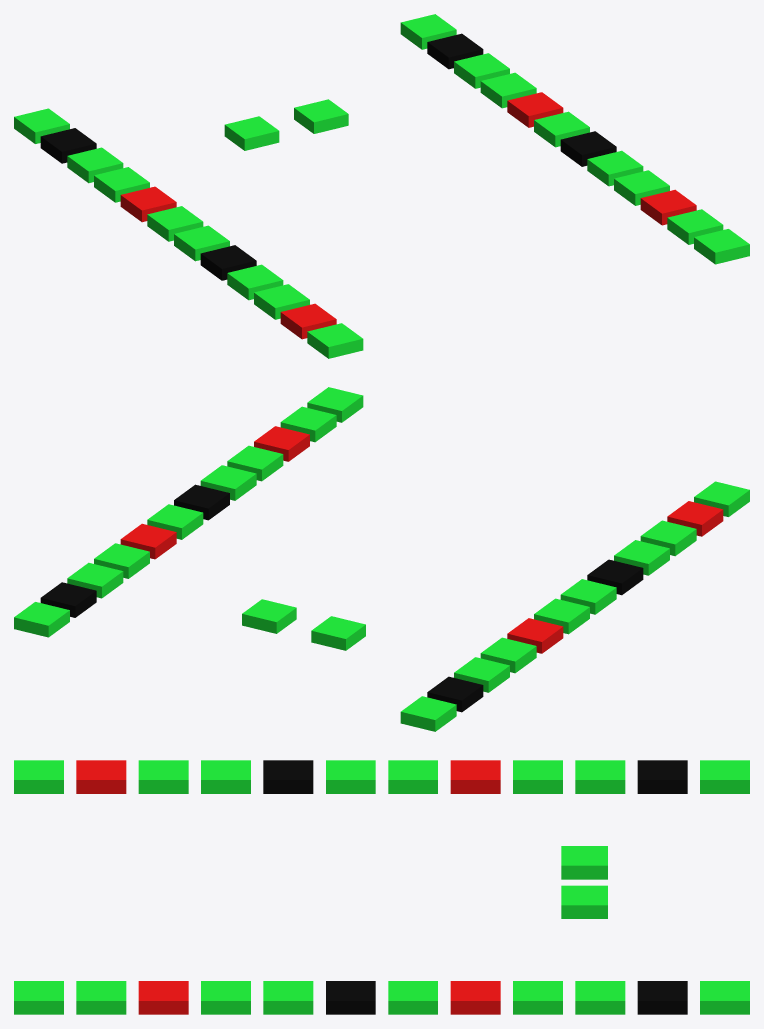
The model's file is windows.glb.
3 renders of one model, top to bottom at view 1: azimuth 30°, elevation 25°; view 2: azimuth 150°, elevation 25°; view 3: azimuth 270°, elevation 25°, orthographic. The views are drawn at different scales.
Parts seen in each view (by area): view 1: ch_green_12, ch_green_0, head_pulse, head_steady, ch_off_22, ch_red_2, ch_red_19, ch_green_8, ch_red_13, ch_off_5, ch_green_11, ch_off_16 (+14 smaller); view 2: ch_green_23, ch_green_11, head_steady, head_pulse, ch_red_13, ch_green_9, ch_off_16, ch_green_3, ch_off_22, ch_green_0, ch_green_6, ch_red_19 (+14 smaller); view 3: ch_green_1, ch_red_2, ch_green_4, ch_red_7, ch_green_9, ch_off_10, ch_red_13, ch_green_14, ch_off_16, ch_red_19, ch_green_21, ch_off_22 (+14 smaller).
Boxes of the visible parts, <box> form: ch_green_12: <box>307,323,363,358</box>; ch_green_0: <box>694,229,749,264</box>; head_pulse: <box>224,116,279,150</box>; head_steady: <box>294,99,348,133</box>; ch_off_22: <box>40,128,96,163</box>; ch_red_2: <box>640,189,696,225</box>; ch_red_19: <box>120,186,176,222</box>; ch_green_8: <box>480,72,536,108</box>; ch_red_13: <box>280,303,336,339</box>; ch_off_5: <box>560,131,616,166</box>; ch_green_11: <box>400,14,456,49</box>; ch_off_16: <box>200,245,256,280</box>; ch_green_23: <box>400,696,456,731</box>; ch_green_11: <box>14,602,69,637</box>; head_steady: <box>242,599,296,633</box>; head_pulse: <box>311,616,365,650</box>; ch_red_13: <box>667,501,723,536</box>; ch_green_9: <box>67,562,123,598</box>; ch_off_16: <box>587,559,643,595</box>; ch_green_3: <box>227,445,283,481</box>; ch_off_22: <box>427,676,483,712</box>; ch_green_0: <box>307,387,363,422</box>; ch_green_6: <box>147,504,203,539</box>; ch_red_19: <box>507,618,563,653</box>; ch_green_1: <box>76,981,126,1014</box>; ch_red_2: <box>138,981,188,1014</box>; ch_green_4: <box>263,981,313,1014</box>; ch_red_7: <box>450,981,500,1014</box>; ch_green_9: <box>575,981,625,1014</box>; ch_off_10: <box>637,981,687,1014</box>; ch_red_13: <box>76,760,126,793</box>; ch_green_14: <box>138,760,188,793</box>; ch_off_16: <box>263,760,313,793</box>; ch_red_19: <box>450,760,500,793</box>; ch_green_21: <box>575,760,625,793</box>; ch_off_22: <box>637,760,687,793</box>.
Size of the model in its own units: 0.073 by 0.00195 by 0.0944.
